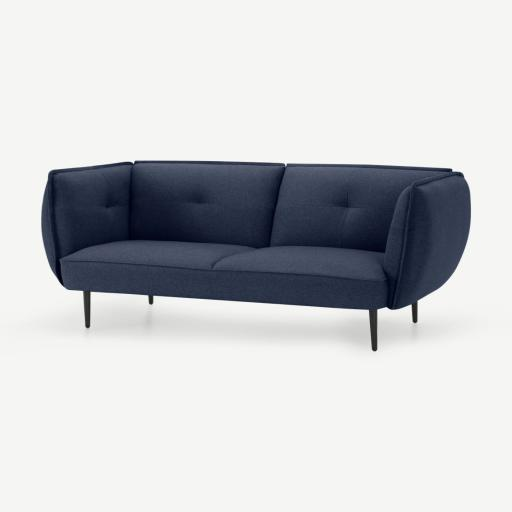back_cushion: (129, 162, 446, 252)
base: (63, 260, 387, 309)
left_arm: (383, 173, 470, 322)
legs: (369, 310, 377, 351), (83, 291, 90, 328), (413, 303, 417, 318), (148, 296, 153, 304)
right_arm: (42, 162, 132, 283)
seat_cushion: (65, 240, 383, 281)
two-seater: (0, 0, 511, 512)
